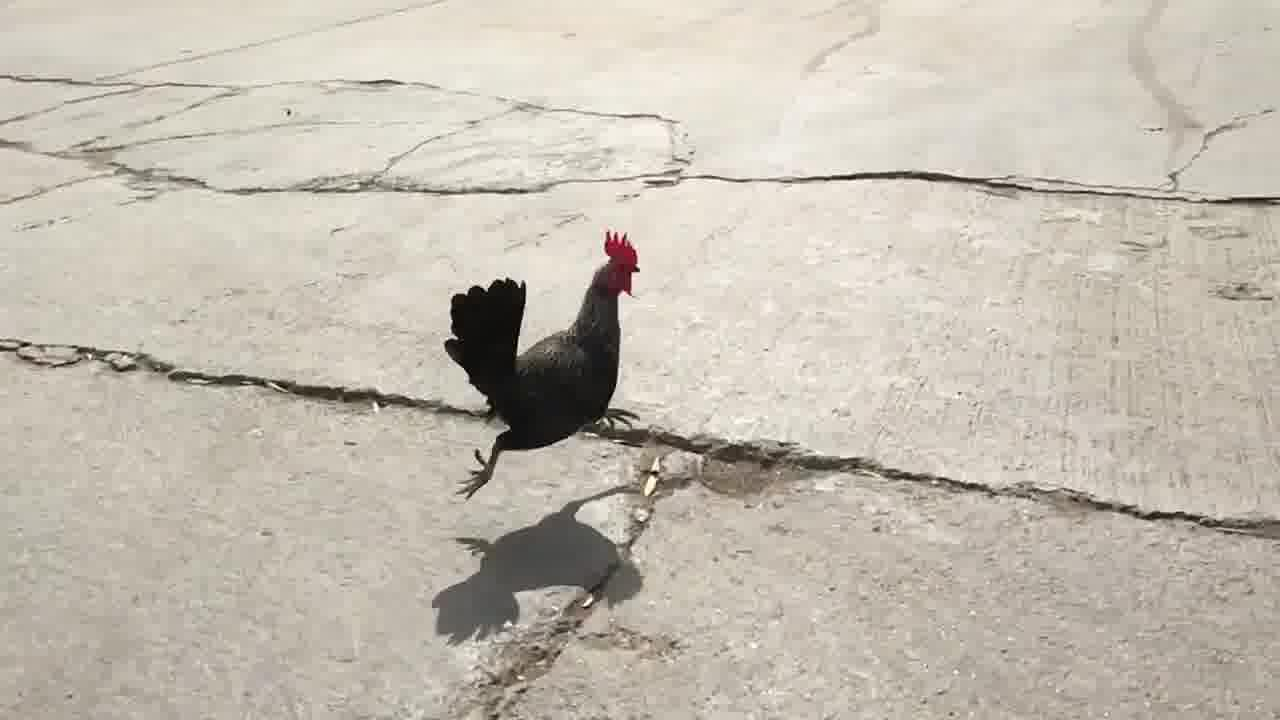Normal: (444, 228, 688, 500)
